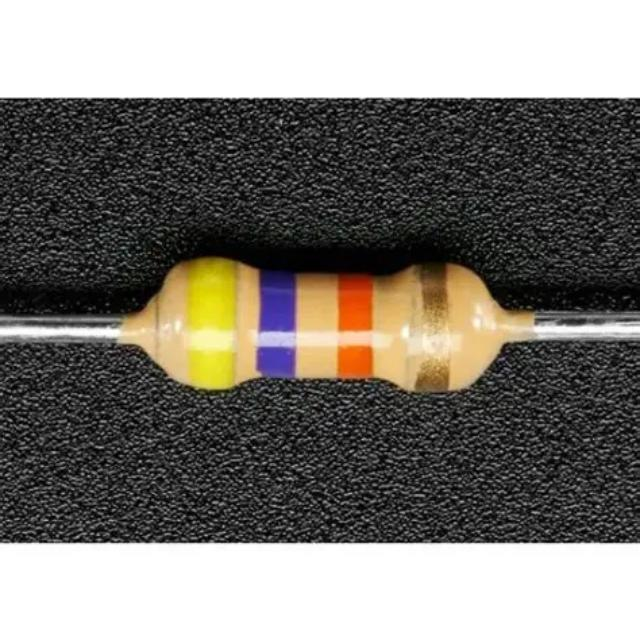gold: (417, 261, 451, 390)
red: (334, 276, 374, 380)
resistor: (105, 230, 556, 416)
violet: (256, 266, 297, 382)
yellow: (188, 259, 239, 387)
